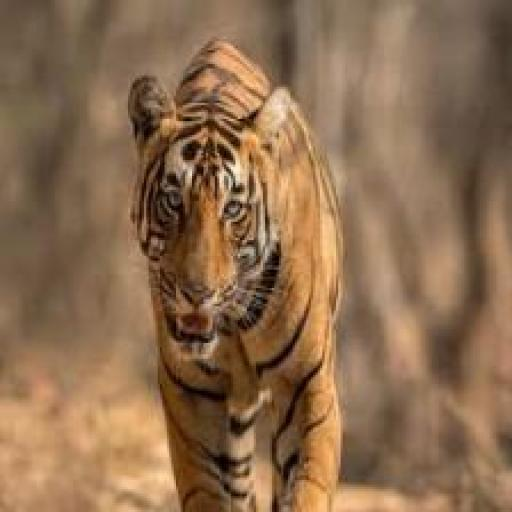Tiger: (114, 25, 372, 512)
